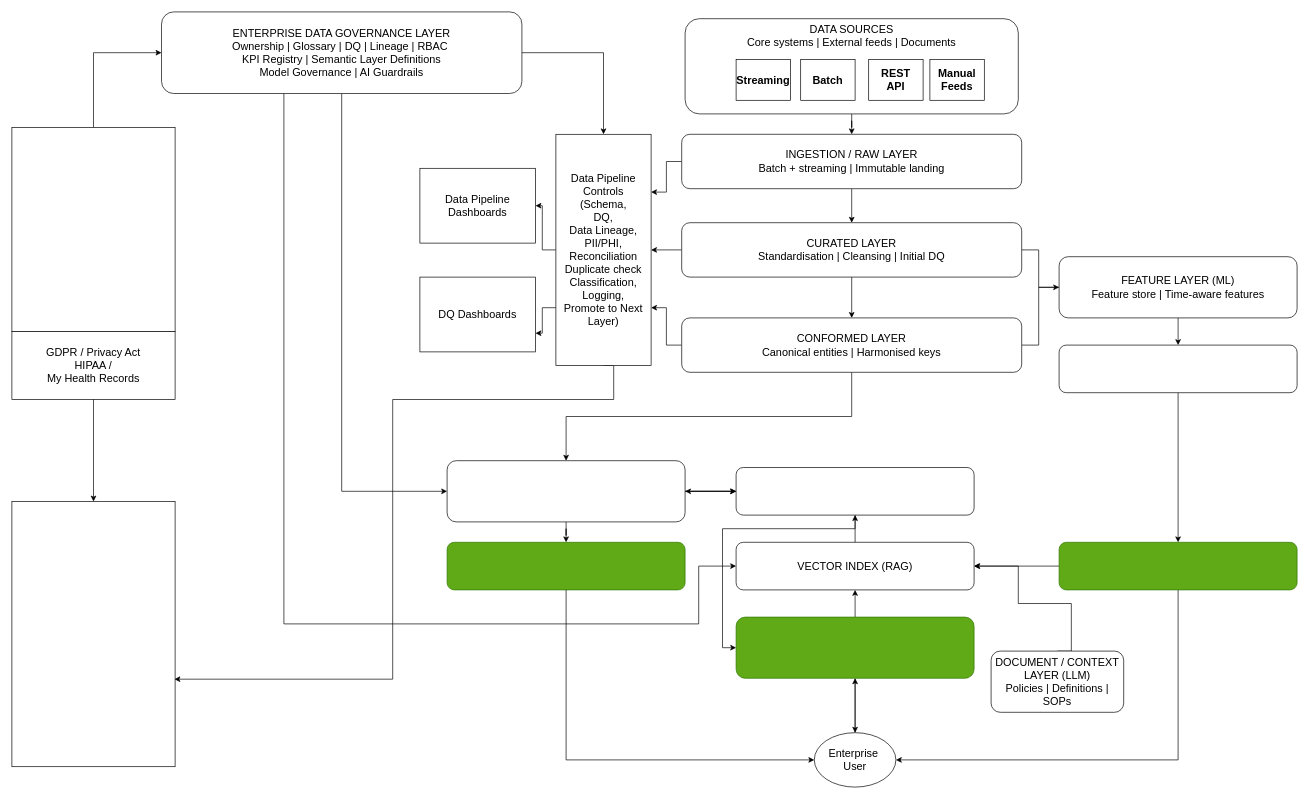
This 1309x799 diagram has some shape labels left out. The shapes that lost their labels are listed below. From the top down, each one's centre as x and y in pixels, then its label:
At [93,229]: "SIRA Legislations (Operations / Performance KPIs)".
At [1177,368]: "ML MODELS (TRAIN + INFER)".
At [565,491]: "SEMANTIC LAYER Certified KPI views | Versioned metrics".
At [854,491]: "Query Engine API".
At [565,566]: "REPORTING / DASHBOARDS".
At [1177,566]: "ML INFERENCE STORE".
At [93,634]: "Auditting Access Logging Regulatory Compliance Review".
At [854,647]: "COPILOT (LLM) Queries Semantic + ML + RAG".
